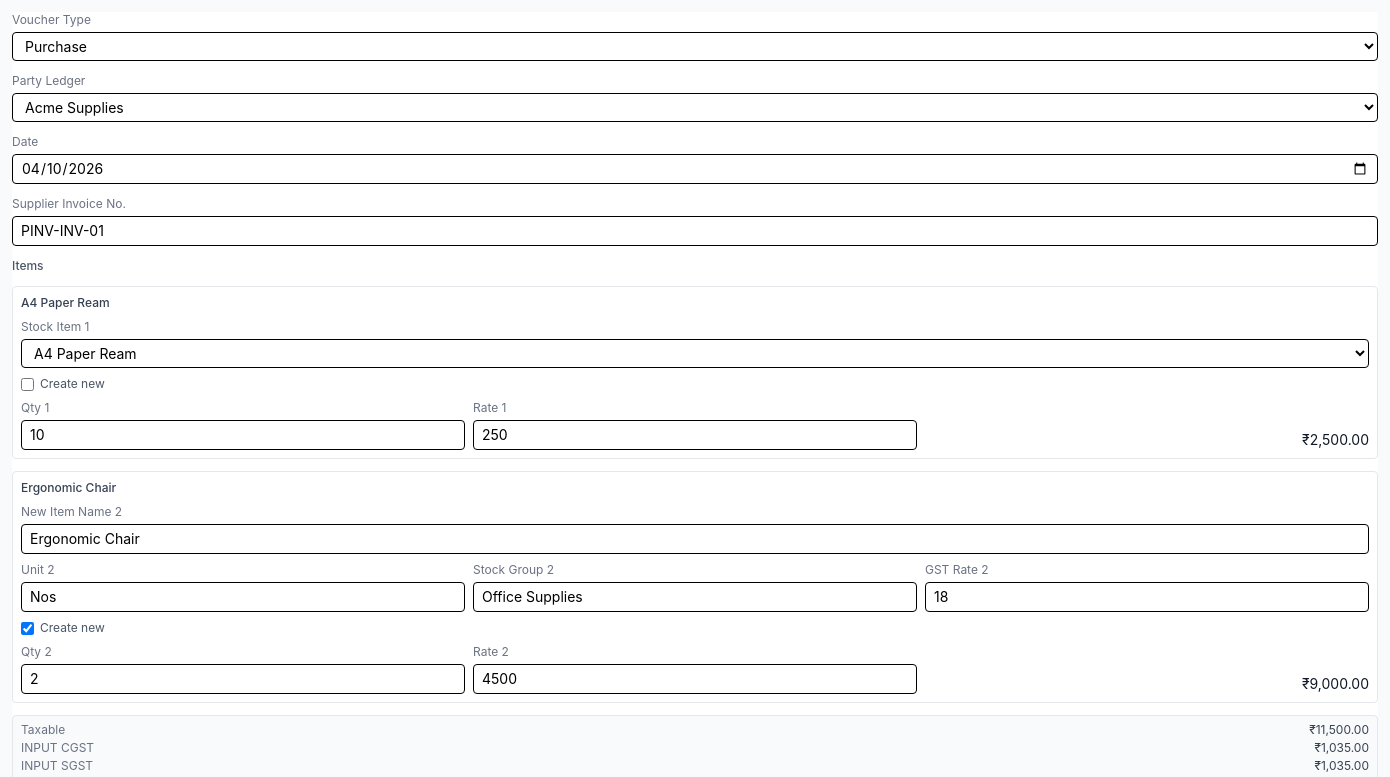
Test case: VoucherEditForm — inventory line items › editing qty and rate recomputes the displayed amount
The width and height of the screenshot is (1390, 777).
Replace the text in the number field labelled "Qty 1" with "4" at (243, 435), box [21, 420, 465, 450]
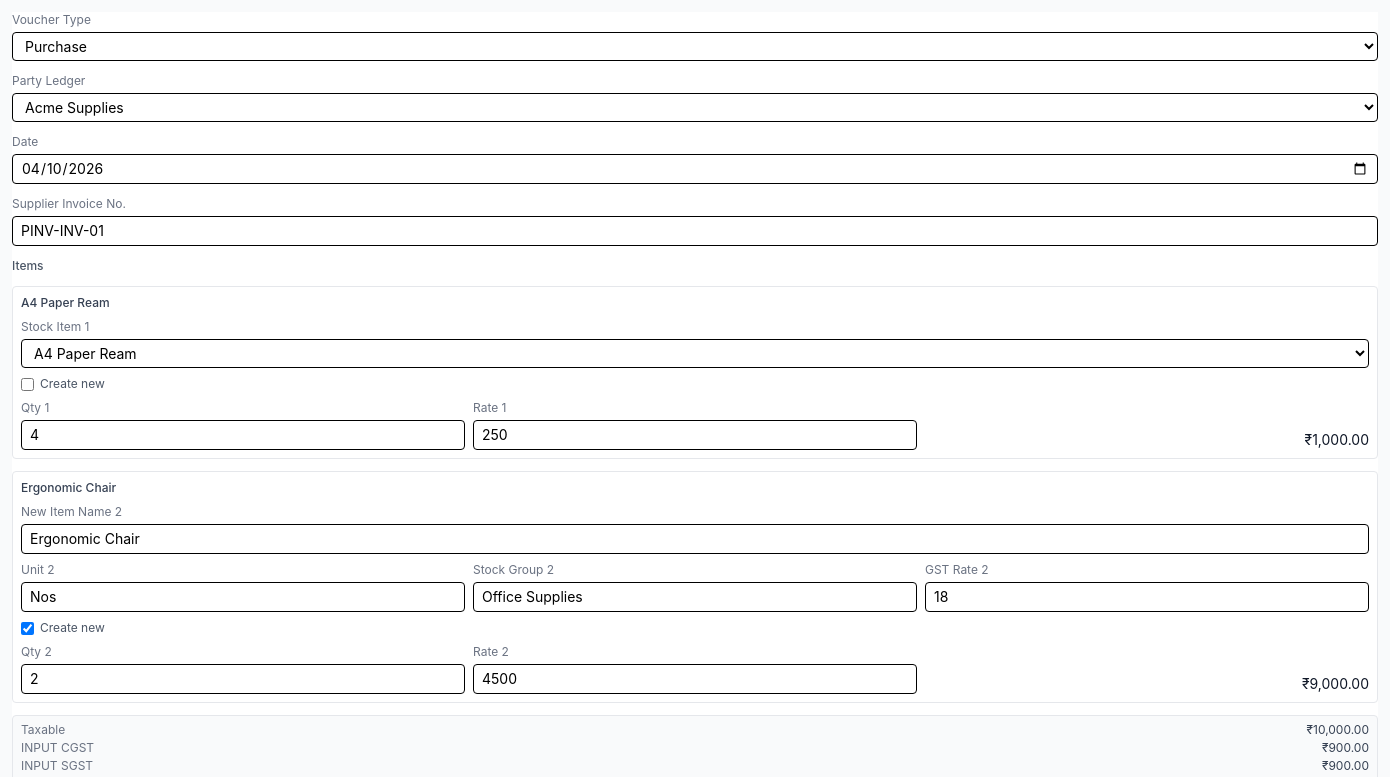
Replace the text in the number field labelled "Rate 1" with "100" at (695, 435), box [473, 420, 917, 450]
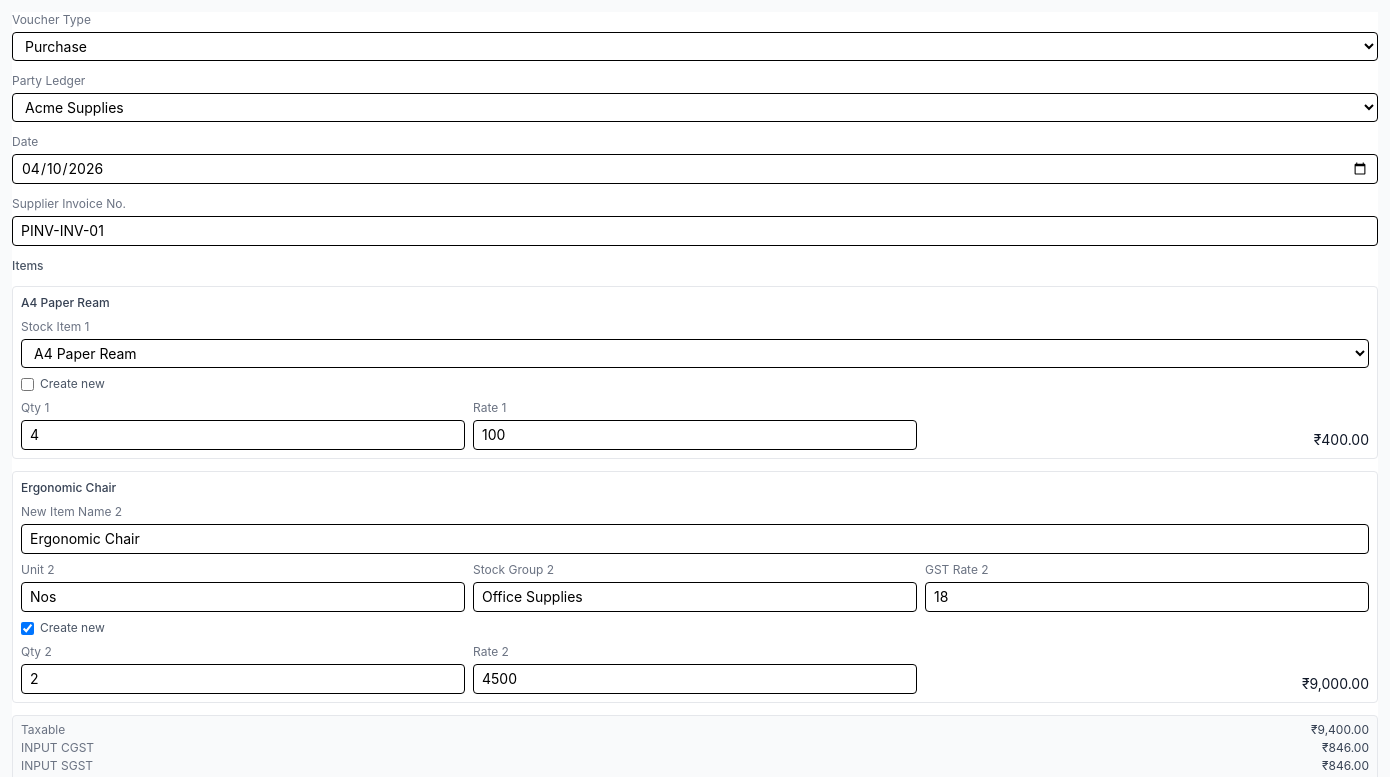
Expected: the text with test id "line-amount-0" reads "₹400.00", [1314, 431, 1369, 448]
